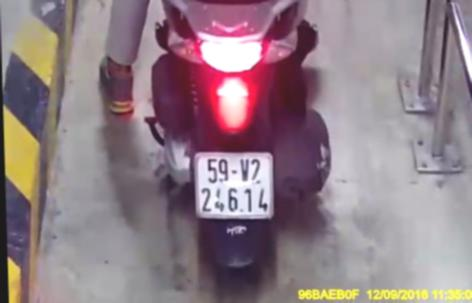License_Plate: (190, 147, 281, 224)
